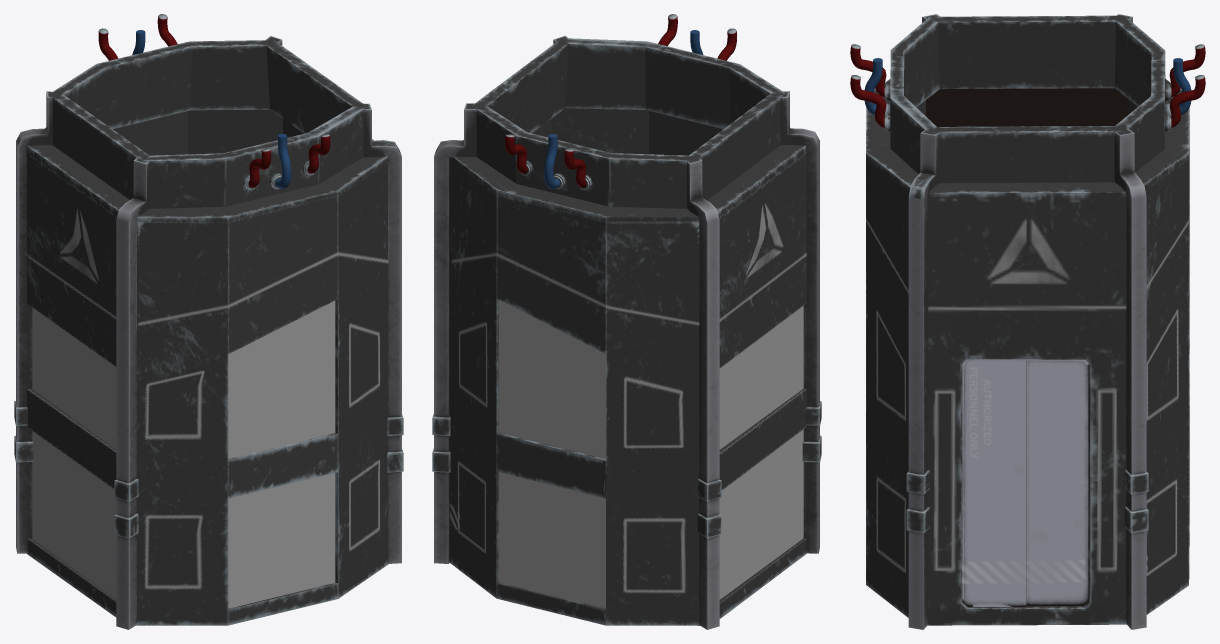
File: SM_Elevator_Exterior.fbx
3 views of the same model, side by side, from view 1: azimuth 30°, elevation 25°; view 2: azimuth 150°, elevation 25°; view 3: azimuth 270°, elevation 25° (orthographic). The views are drawn at different scales.
Parts seen in each view (by area): view 1: polySurface137; view 2: polySurface137; view 3: polySurface137, polySurface91, polySurface90.
Boxes of the visible parts, <box> form: polySurface137: <box>14,14,403,629</box>; polySurface137: <box>432,14,821,629</box>; polySurface137: <box>850,14,1205,629</box>; polySurface91: <box>962,359,1026,606</box>; polySurface90: <box>1026,359,1088,606</box>.
Size of the model in its own units: 715 by 1123 by 724.
